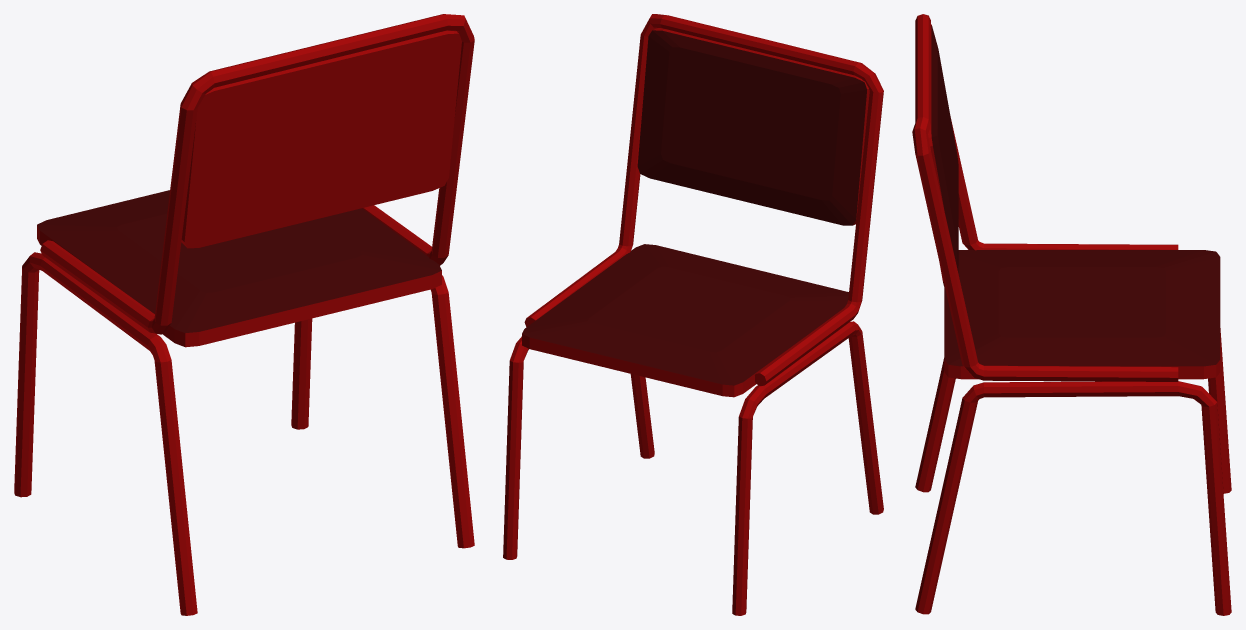
Rendered from DeskChair.001.glb.
3 views of the same model, side by side, from view 1: azimuth 30°, elevation 25°; view 2: azimuth 150°, elevation 25°; view 3: azimuth 270°, elevation 25° (orthographic). The views are drawn at different scales.
Visible parts, largest first — view 1: DeskChair.001; view 2: DeskChair.001; view 3: DeskChair.001.
Boxes of the visible parts, x1,y1,x2,y2 form: DeskChair.001: (14,14,474,615); DeskChair.001: (503,14,883,615); DeskChair.001: (912,14,1231,615).
Bounding box in the file's own units: 3.27 × 5.76 × 3.42.
